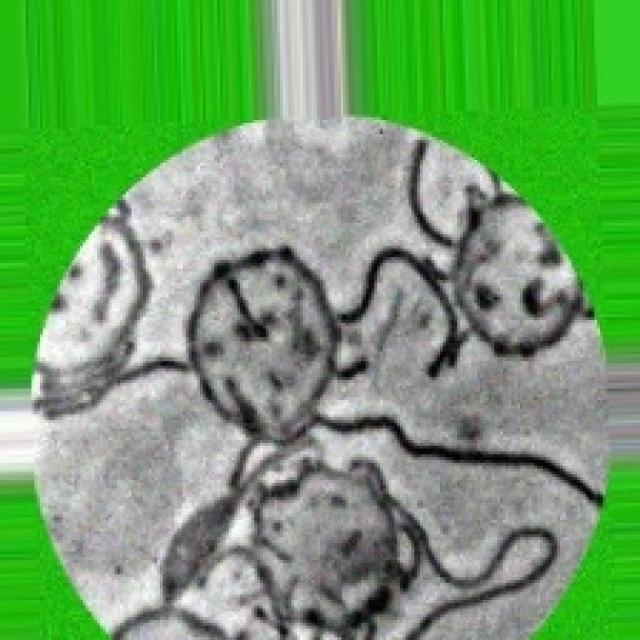Spiral_bacteria: (29, 112, 608, 637)
